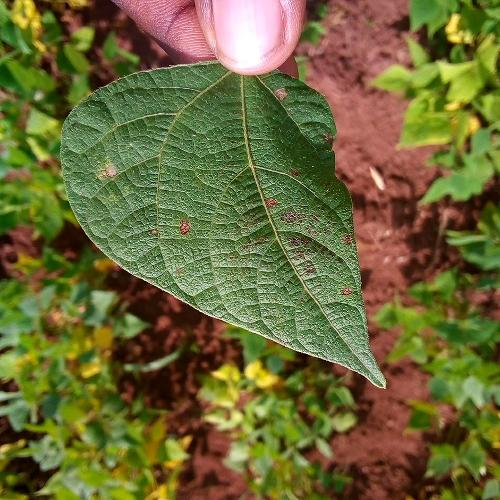hawar: (174, 207, 199, 236)
mozaik: (112, 90, 362, 349)
